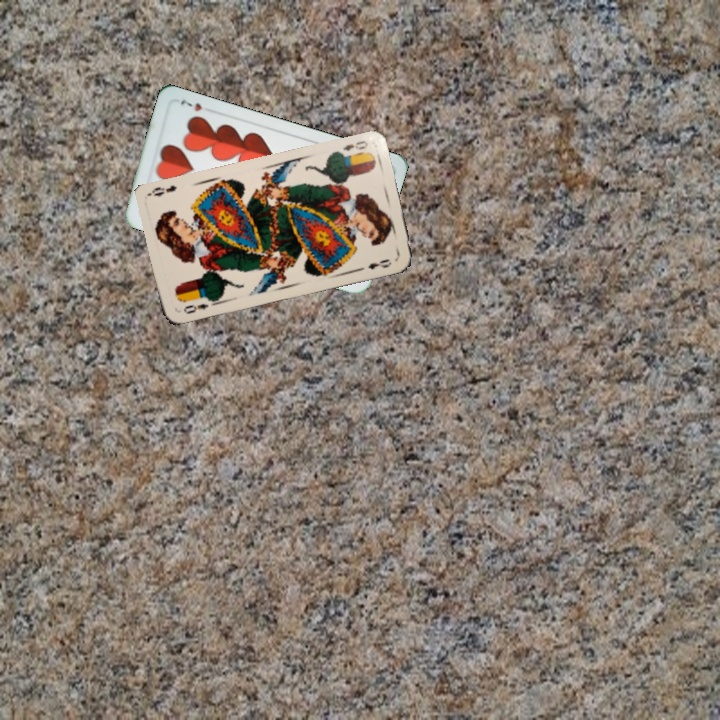EO: (339, 136, 370, 154), (179, 299, 211, 316)
